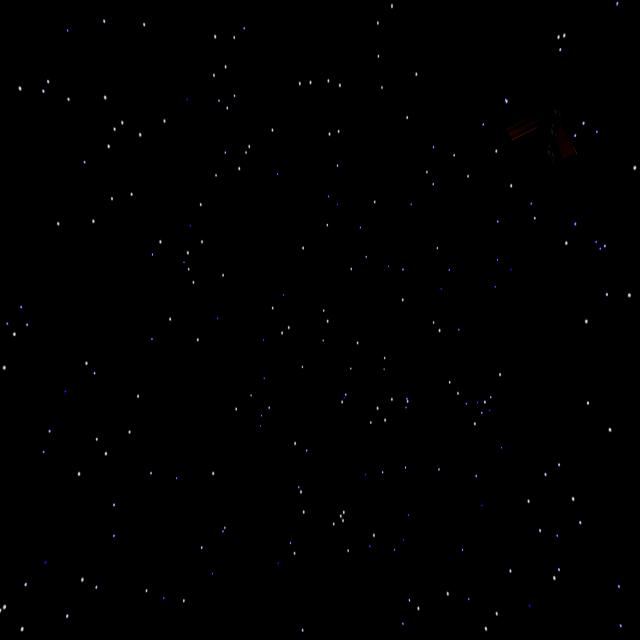satellite: (499, 77, 609, 180)
